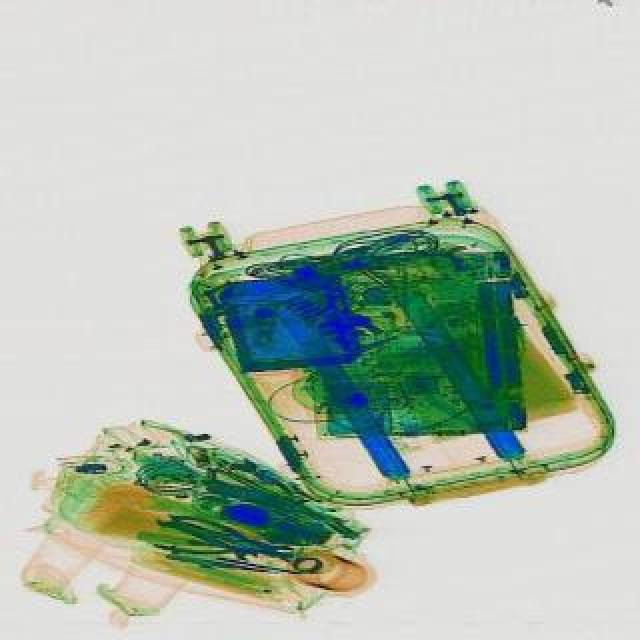scissors: (154, 508, 260, 568)
wrench: (150, 510, 298, 574)
